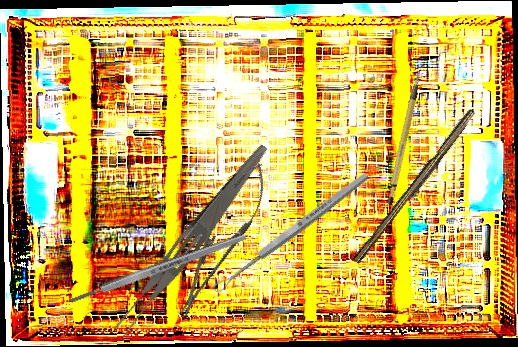Dressing Forceps: (108, 136, 273, 342)
Needle Holder: (164, 154, 278, 324)
Scalpel Handle: (352, 106, 479, 268), (67, 231, 248, 307), (369, 70, 442, 206)
Surgical Spoon: (211, 170, 371, 295)
